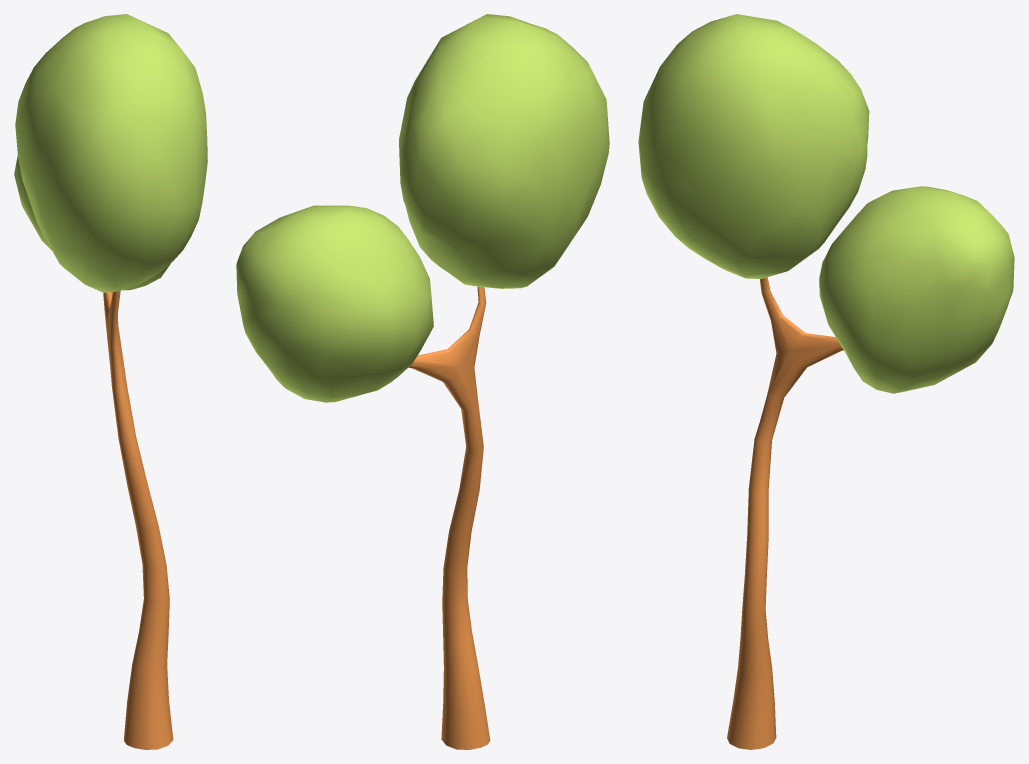
The model's file is Tree_D.fbx.
3 views of the same model, side by side, from view 1: azimuth 30°, elevation 25°; view 2: azimuth 150°, elevation 25°; view 3: azimuth 270°, elevation 25° (orthographic). The views are drawn at different scales.
Visible parts, largest first — view 1: Oak_Tree_m_10; view 2: Oak_Tree_m_10; view 3: Oak_Tree_m_10.
Part boxes in pixels (<box>): Oak_Tree_m_10: <box>14,14,207,749</box>; Oak_Tree_m_10: <box>236,14,609,749</box>; Oak_Tree_m_10: <box>638,14,1014,749</box>.
Bounding box in the file's own units: 253 × 753 × 365.
